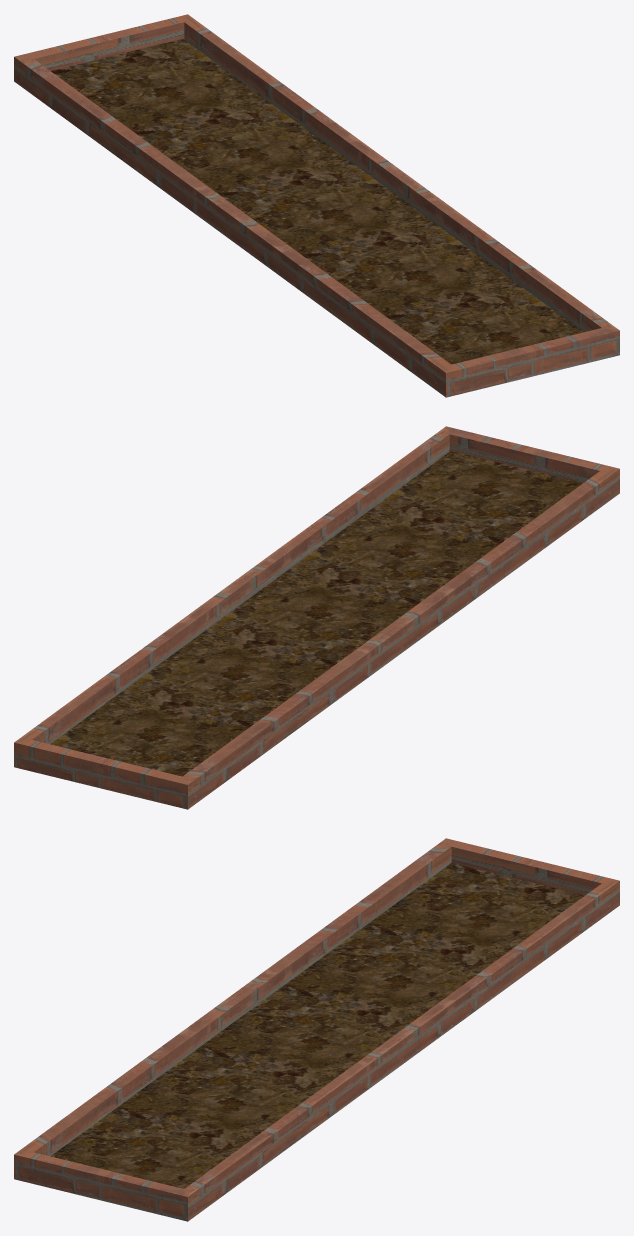
The model's file is brick_planter_box.glb.
The picture shows the model from 3 angles, top to bottom: view 1: azimuth 30°, elevation 25°; view 2: azimuth 150°, elevation 25°; view 3: azimuth 330°, elevation 25°; orthographic projection.
Visible parts, largest first — view 1: plantpot_0; view 2: plantpot_0; view 3: plantpot_0.
Part boxes in pixels (left/top/right/bottom): plantpot_0: left=14, top=14, right=619, bottom=397; plantpot_0: left=14, top=426, right=619, bottom=809; plantpot_0: left=14, top=838, right=619, bottom=1221.
Size of the model in its own units: 2.33 by 0.3156 by 10.02.
Materials: 2 (2 with a texture image).
